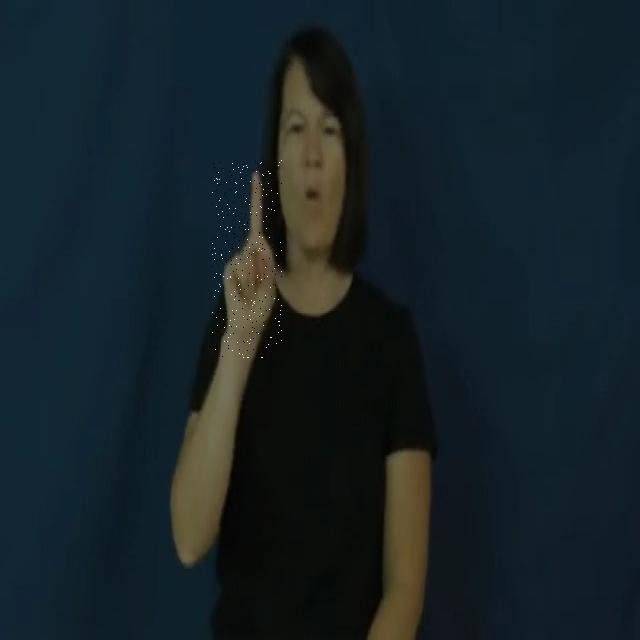cold: (212, 159, 282, 358)
